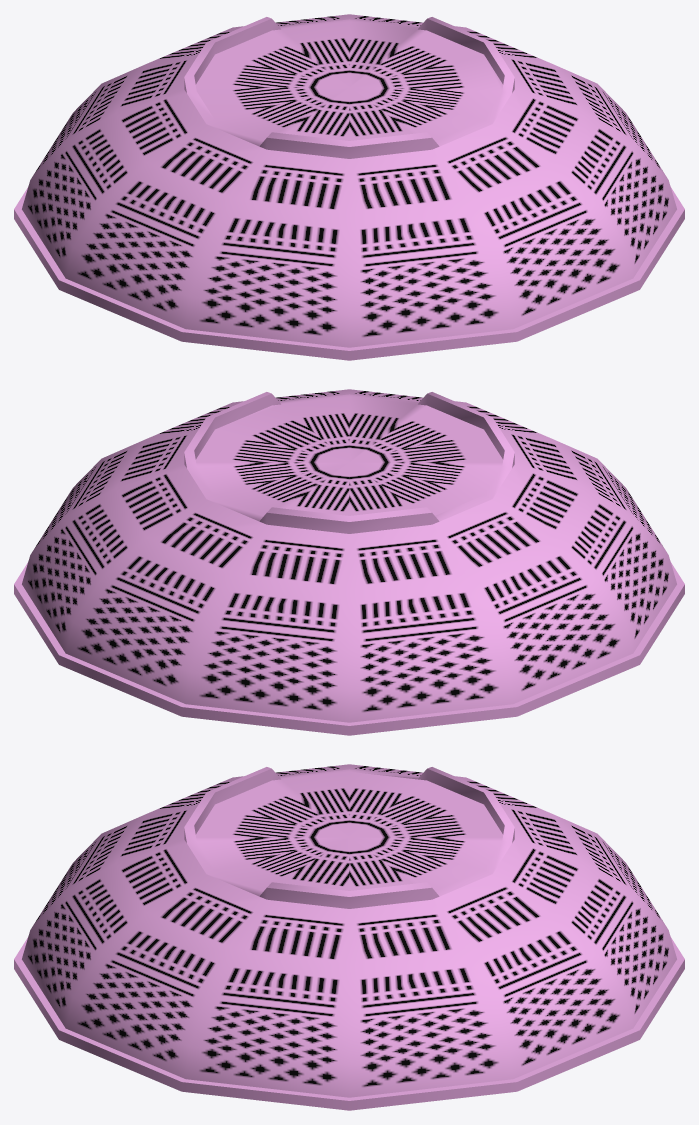
The picture shows the model from 3 angles, top to bottom: view 1: azimuth 30°, elevation 25°; view 2: azimuth 150°, elevation 25°; view 3: azimuth 270°, elevation 25°; orthographic projection.
Parts seen in each view (by area): view 1: Joint_0_Object_0; view 2: Joint_0_Object_0; view 3: Joint_0_Object_0.
Boxes of the visible parts, x1=… form: Joint_0_Object_0: x1=14, y1=14, x2=684, y2=360; Joint_0_Object_0: x1=14, y1=389, x2=684, y2=735; Joint_0_Object_0: x1=14, y1=764, x2=684, y2=1110.
Bounding box in the file's own units: 508 × 120 × 508.
Materials: 1 (1 with a texture image).
